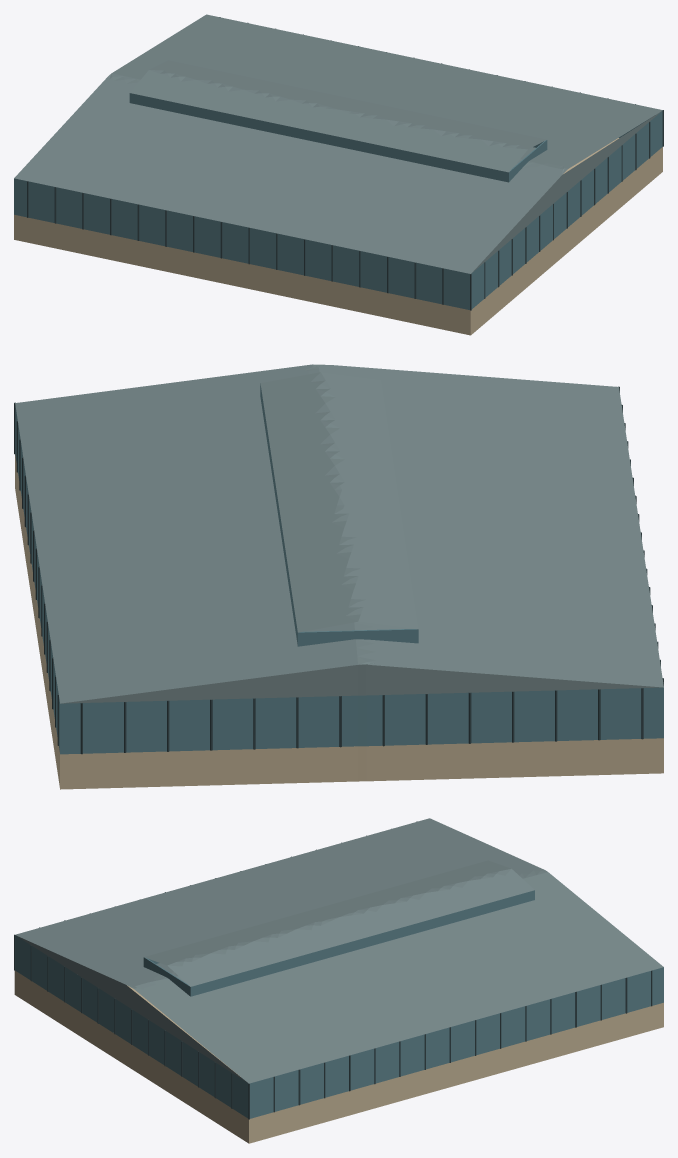
The model's file is mercato-centrale.glb.
3 views of the same model, one above another, from view 1: azimuth 30°, elevation 25°; view 2: azimuth 150°, elevation 25°; view 3: azimuth 270°, elevation 25° (orthographic). The views are drawn at different scales.
Visible parts, largest first — view 1: iron-hall-roof, market-glazed-hall, market-masonry-base, roof, raised-glass-lantern, iron-uprights; view 2: iron-hall-roof, market-glazed-hall, roof, market-masonry-base, iron-uprights, raised-glass-lantern; view 3: iron-hall-roof, market-glazed-hall, market-masonry-base, roof, raised-glass-lantern, iron-uprights.
Part boxes in pixels (x1,y1,x2,y2): iron-hall-roof: (14, 14, 662, 273); market-glazed-hall: (14, 111, 662, 309); market-masonry-base: (14, 138, 662, 335); roof: (130, 60, 546, 172); raised-glass-lantern: (129, 93, 547, 182); iron-uprights: (27, 17, 663, 310); iron-hall-roof: (15, 364, 663, 703); market-glazed-hall: (15, 405, 663, 754); roof: (260, 372, 418, 632); market-masonry-base: (15, 454, 663, 789); iron-uprights: (14, 386, 663, 754); raised-glass-lantern: (260, 383, 418, 646); iron-hall-roof: (15, 818, 663, 1083); market-glazed-hall: (15, 935, 663, 1118); market-masonry-base: (14, 970, 663, 1143); roof: (144, 860, 534, 986); raised-glass-lantern: (143, 890, 534, 996); iron-uprights: (14, 821, 652, 1119).
Size of the model in its own units: 15.48 by 2.55 by 16.
